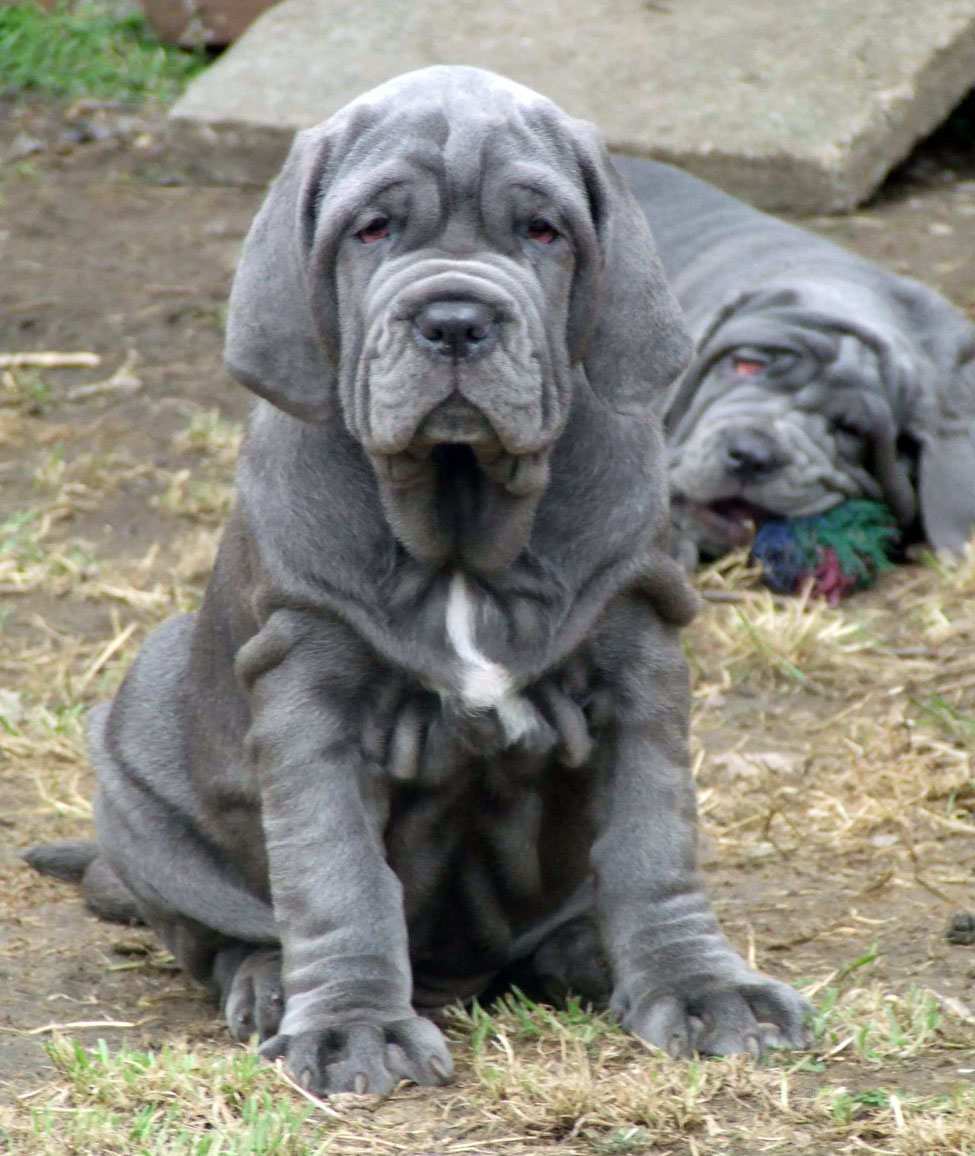neapolitan_mastiff: (22, 59, 822, 1103), (610, 150, 975, 565)
